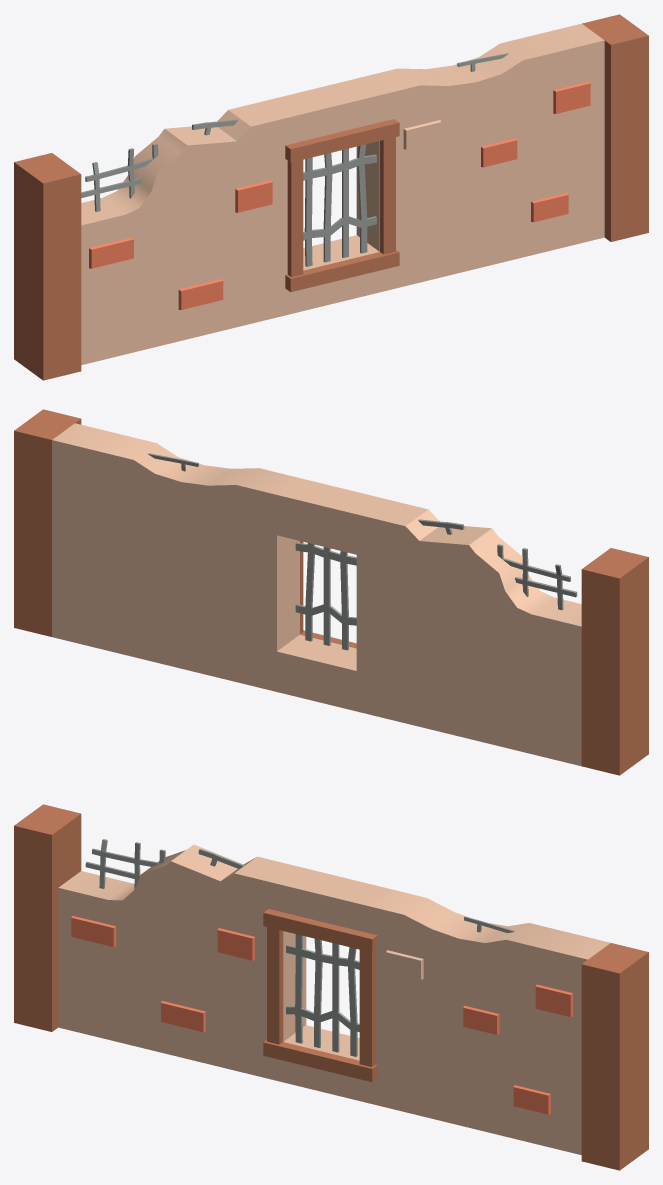
The model's file is Wall2.fbx.
The picture shows the model from 3 angles, top to bottom: view 1: azimuth 30°, elevation 25°; view 2: azimuth 150°, elevation 25°; view 3: azimuth 330°, elevation 25°; orthographic projection.
Parts seen in each view (by area): view 1: Cube.047; view 2: Cube.047; view 3: Cube.047.
Part boxes in pixels (x1,y1,x2,y2): Cube.047: (14, 14, 648, 380); Cube.047: (14, 409, 648, 775); Cube.047: (14, 804, 648, 1170).
Bounding box in the file's own units: 319 × 101 × 26.71.
1 material, 1 textured.
